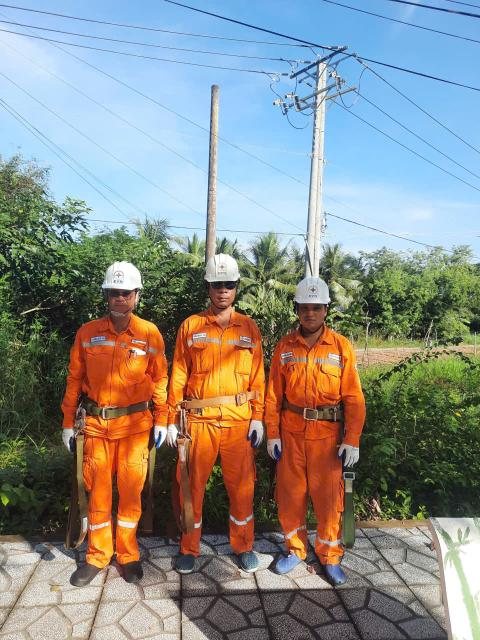gloves: (331, 433, 363, 464), (58, 425, 87, 454), (247, 419, 269, 452), (165, 423, 188, 447), (266, 436, 290, 459), (149, 426, 167, 451)
harness: (281, 394, 363, 423), (169, 389, 269, 411), (68, 395, 155, 419)
helmet: (90, 251, 158, 301), (289, 274, 335, 309), (197, 251, 243, 283)
shoes: (65, 552, 109, 591), (274, 547, 316, 579), (117, 551, 153, 586), (171, 547, 209, 580), (318, 558, 355, 585), (235, 548, 266, 577)
